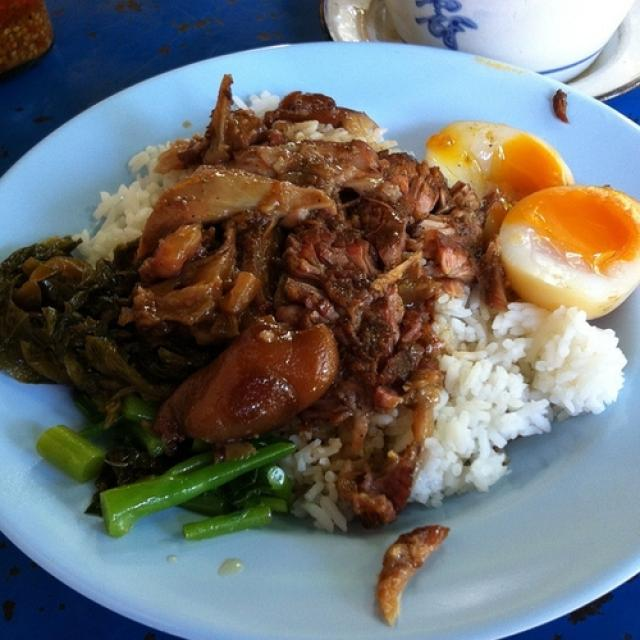猪肉菜式: (26, 55, 630, 581)
